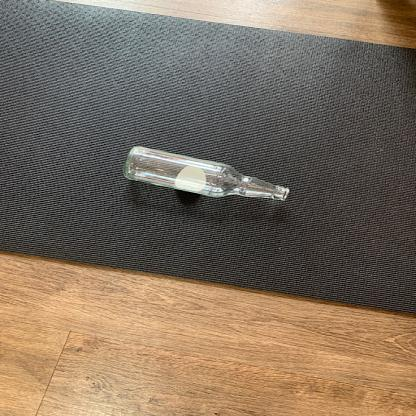trash: (126, 146, 298, 202)
